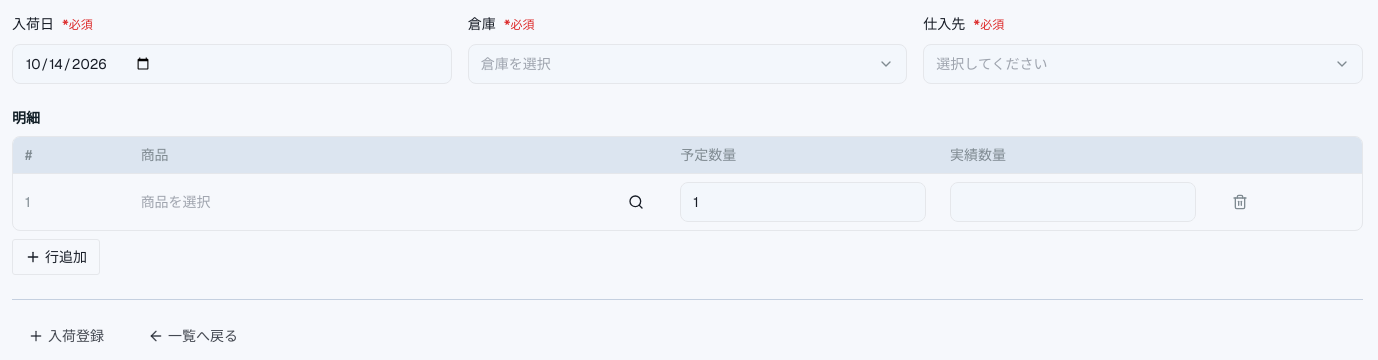
Test case: ReceivingForm - インタラクション › 倉庫のSelect選択肢が読み込まれること
Click the button "倉庫を選択" at (516, 64), box [468,44,907,84]
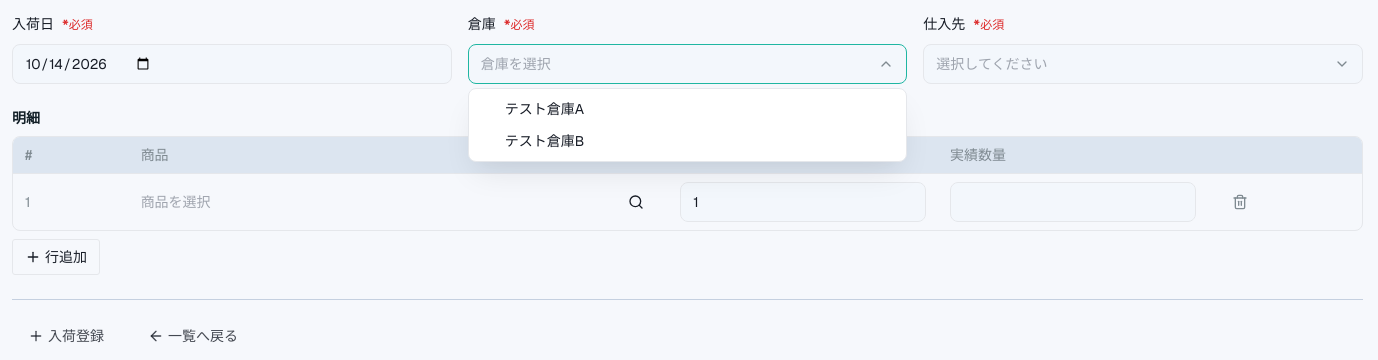
Check: the option "テスト倉庫A" is shown, box [505,100,584,118]
